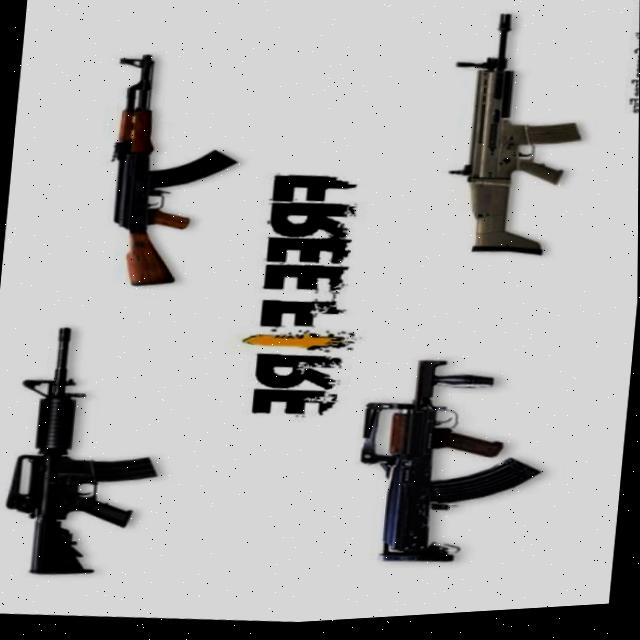firearm: (0, 316, 176, 585), (350, 354, 555, 580), (436, 9, 592, 270), (95, 46, 251, 296)
